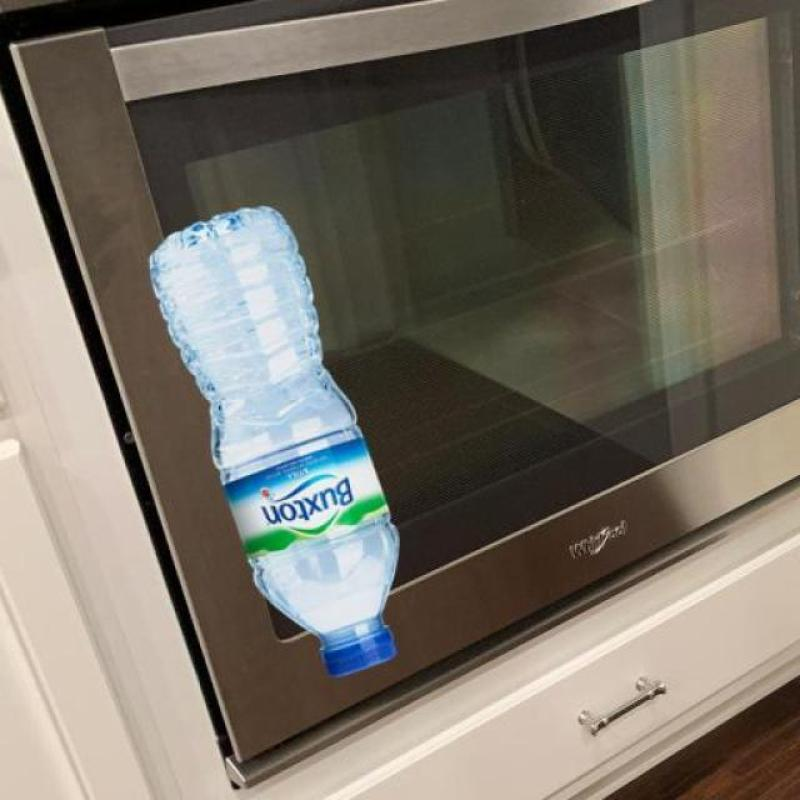botella: (142, 205, 400, 675)
